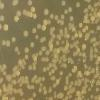white: (20, 9, 32, 18), (60, 46, 71, 55), (14, 88, 24, 97), (93, 6, 100, 18), (41, 8, 51, 16), (76, 70, 86, 78), (53, 47, 62, 55), (80, 85, 88, 94), (4, 23, 10, 34), (46, 40, 54, 48), (75, 78, 83, 86), (14, 46, 21, 55), (88, 29, 97, 36), (88, 36, 97, 43), (25, 0, 35, 6), (77, 52, 87, 58), (67, 90, 73, 100), (59, 0, 67, 7), (83, 16, 90, 24), (39, 37, 47, 44), (50, 32, 57, 40), (5, 74, 12, 82), (18, 63, 26, 70), (68, 57, 75, 65), (90, 46, 94, 60), (56, 91, 64, 98), (18, 76, 25, 84), (11, 0, 20, 6), (41, 56, 50, 62), (0, 0, 5, 10), (77, 29, 82, 39), (26, 76, 31, 86), (15, 10, 22, 17), (29, 6, 36, 13), (93, 42, 100, 49), (93, 72, 100, 79), (0, 14, 6, 22), (57, 20, 65, 26), (24, 46, 30, 54), (81, 43, 87, 51), (0, 68, 6, 76), (18, 59, 24, 67), (49, 62, 57, 68), (59, 63, 67, 69), (61, 55, 67, 63), (51, 54, 59, 60), (84, 71, 92, 77), (88, 85, 94, 93), (42, 86, 48, 94), (39, 82, 43, 94), (7, 88, 13, 96), (2, 39, 7, 48), (95, 64, 100, 73), (47, 84, 52, 93), (75, 2, 82, 8), (13, 15, 19, 22), (68, 15, 74, 22), (94, 1, 100, 8), (41, 24, 47, 31), (49, 26, 56, 32), (63, 27, 69, 34), (68, 23, 74, 30), (93, 52, 100, 58), (90, 67, 96, 74), (76, 89, 82, 96), (84, 0, 94, 4), (68, 5, 73, 13), (86, 6, 94, 11), (84, 33, 89, 41), (72, 65, 77, 73), (8, 95, 16, 100), (2, 83, 6, 93), (48, 14, 54, 20), (83, 8, 89, 14), (56, 34, 62, 40), (75, 39, 81, 45), (70, 42, 76, 48), (72, 50, 78, 56), (40, 46, 46, 52), (0, 76, 4, 85), (12, 66, 18, 72), (15, 70, 21, 76), (58, 70, 64, 76), (94, 47, 100, 53), (64, 76, 68, 85), (63, 86, 69, 92), (82, 64, 88, 70), (88, 79, 94, 85), (84, 77, 88, 86), (46, 96, 55, 100), (52, 83, 58, 89), (29, 84, 35, 90), (7, 83, 13, 89), (24, 31, 29, 38), (60, 13, 65, 20), (30, 41, 35, 48), (65, 41, 70, 48), (50, 58, 57, 63), (42, 66, 47, 73), (51, 68, 56, 75), (95, 57, 100, 64), (70, 86, 75, 93), (64, 7, 68, 15), (7, 39, 11, 47), (66, 33, 70, 41), (76, 44, 80, 52), (32, 63, 36, 71), (26, 82, 30, 90), (32, 13, 37, 19), (37, 24, 42, 30), (11, 36, 16, 42), (54, 14, 59, 20), (90, 16, 96, 21), (44, 19, 50, 24), (55, 40, 60, 46), (70, 35, 75, 41), (28, 64, 33, 70), (55, 79, 60, 85), (95, 80, 100, 86), (95, 87, 100, 93), (94, 94, 99, 100), (87, 65, 92, 71), (77, 94, 82, 100), (63, 95, 69, 100), (34, 79, 40, 84), (11, 80, 17, 85), (96, 25, 100, 32), (79, 22, 83, 29), (74, 31, 78, 38), (49, 76, 56, 80), (83, 57, 87, 64), (54, 91, 58, 98), (34, 56, 37, 65), (0, 88, 3, 97), (81, 28, 86, 33), (60, 40, 65, 45), (59, 29, 64, 34), (71, 27, 76, 32), (38, 51, 43, 56), (45, 51, 50, 56), (47, 71, 52, 76), (30, 77, 35, 82), (18, 83, 23, 88), (0, 24, 3, 32), (32, 27, 36, 33), (84, 25, 88, 31), (59, 33, 63, 39), (64, 33, 68, 39), (2, 64, 6, 70), (12, 72, 16, 78), (23, 60, 27, 66), (46, 66, 50, 72), (90, 94, 94, 100), (68, 72, 72, 78), (33, 92, 37, 98), (26, 97, 34, 100), (2, 96, 8, 100), (38, 76, 42, 82), (42, 76, 46, 82), (32, 53, 35, 60), (36, 52, 39, 59), (0, 64, 3, 71), (90, 11, 94, 16), (53, 66, 58, 70), (68, 84, 72, 89), (20, 97, 26, 100), (36, 32, 38, 40), (69, 80, 73, 84), (34, 75, 38, 79), (3, 94, 7, 98), (25, 55, 28, 60)
